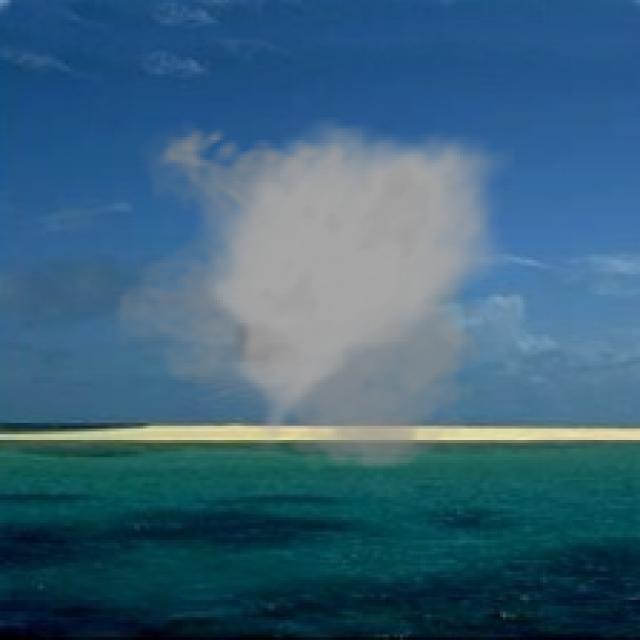smoke: (114, 117, 514, 474)
